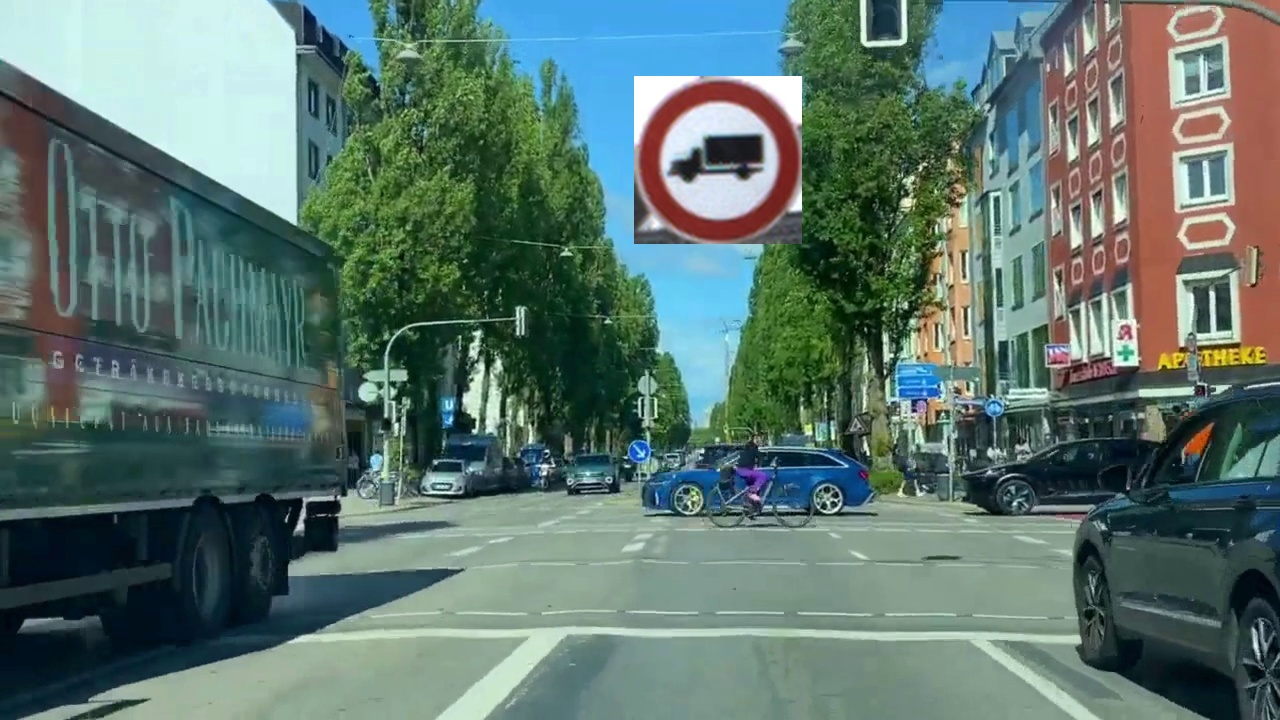Veh >3.5t prohib: (634, 76, 802, 244)
